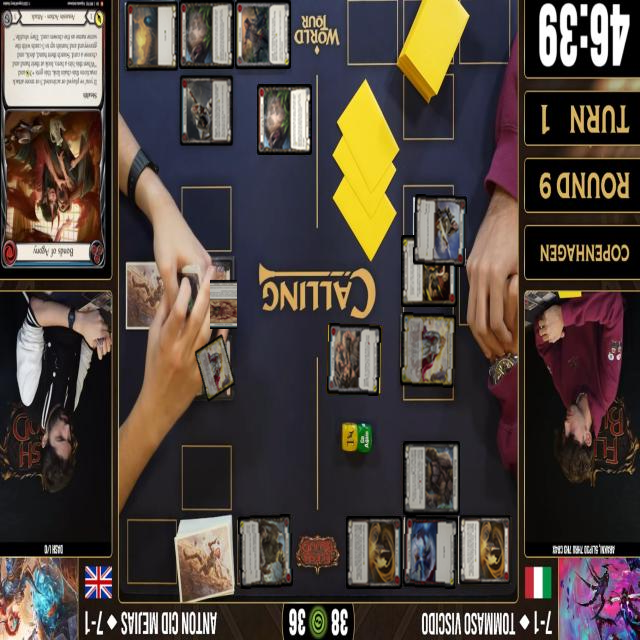Barkbone_Strapping_WTR005: (402, 441, 459, 515)
Barraging_Beatdown_WTR017: (256, 84, 312, 155), (178, 0, 234, 69)
Cartilage_Crush_WTR062: (327, 323, 381, 396)
Debilitate_WTR067: (234, 0, 291, 69)
Demolition_Crew_WTR181: (401, 235, 457, 307)
Dorinthea_Ironsong_WTR113: (399, 312, 456, 388), (193, 333, 235, 403)
Ironsong_Response_WTR134: (178, 74, 234, 147)
Sharpen_Steel_WTR143: (412, 194, 467, 267)
Sigil_of_Solace_WTR173: (124, 0, 178, 72)
Smash_Instinct_WTR028: (209, 256, 236, 328)
Stroke_of_Foresight_WTR138: (457, 514, 512, 586)
Stroke_of_Foresight_WTR140: (345, 516, 401, 589)
Surging_Strike_WTR107: (402, 515, 457, 589)
Wrecker_Romp_WTR031: (238, 513, 293, 588)
